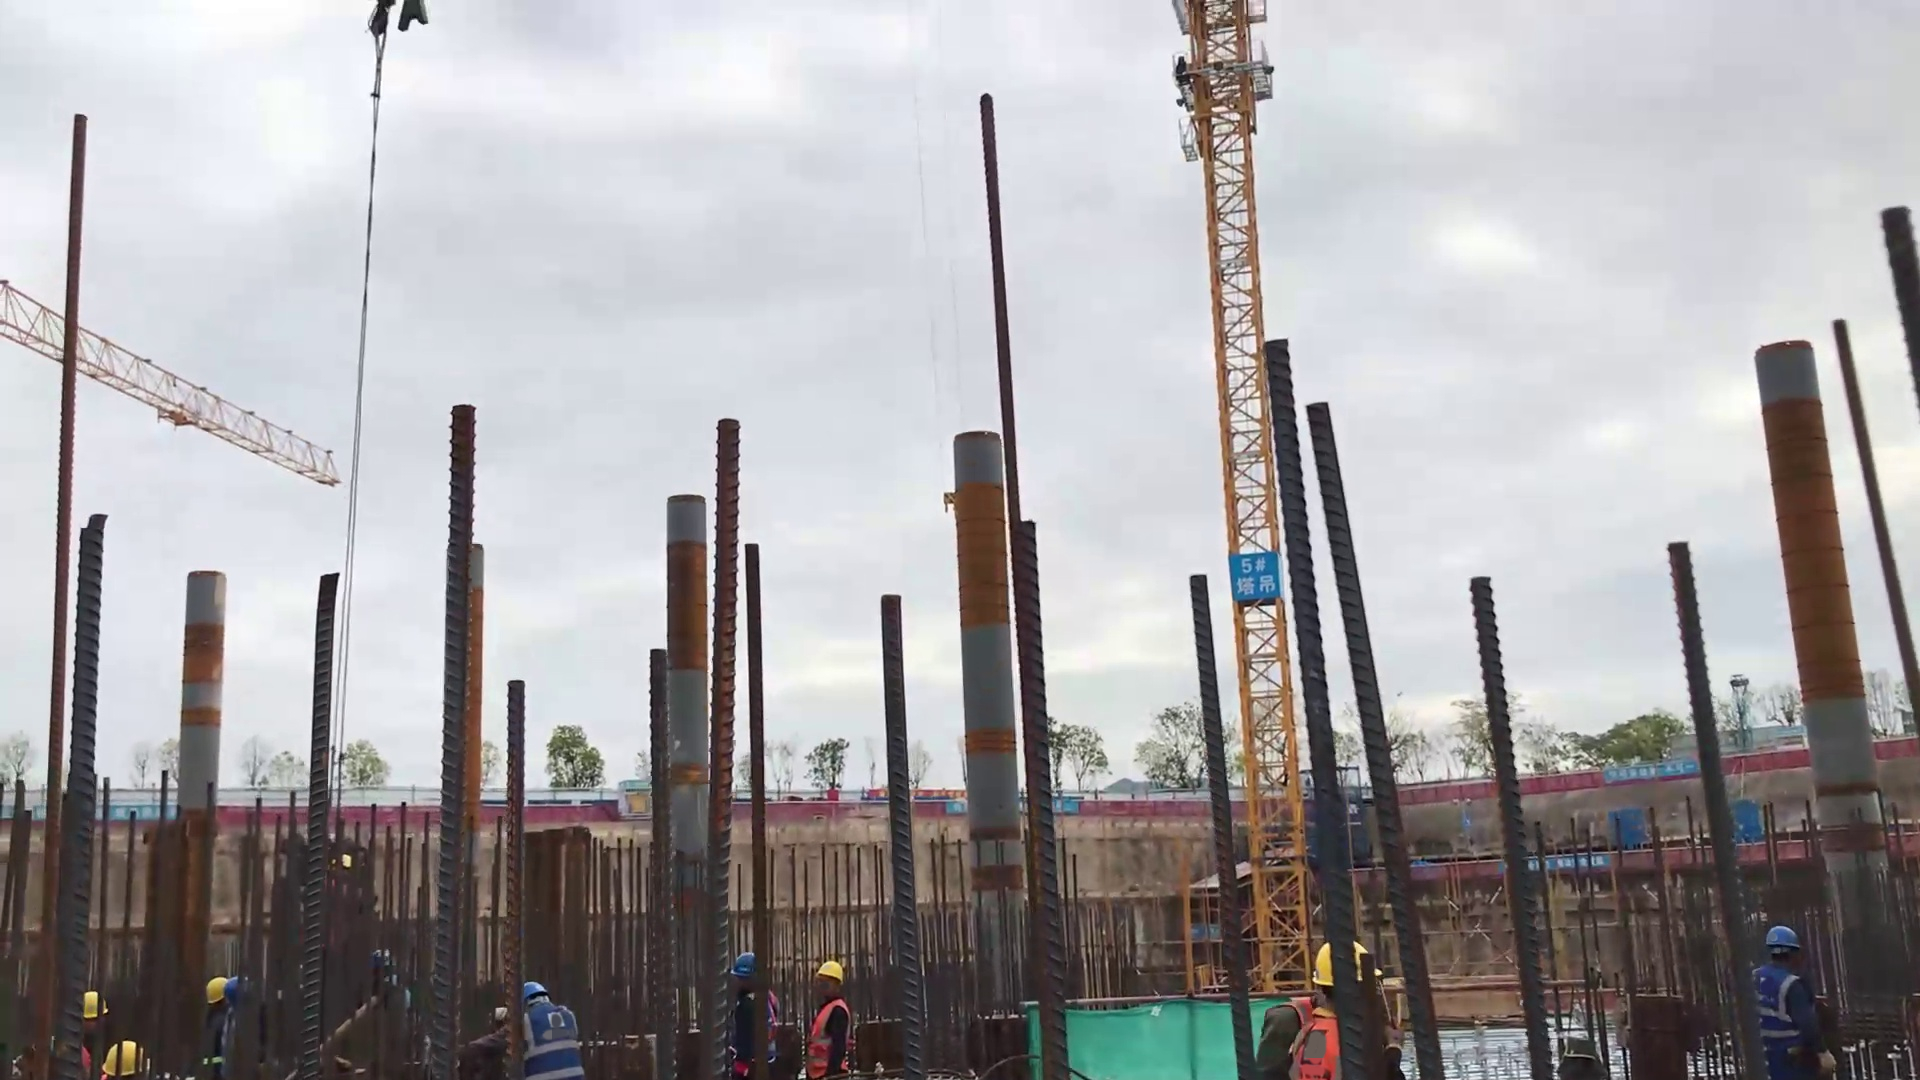helmet: (1304, 938, 1379, 991), (1765, 927, 1819, 969), (97, 1046, 152, 1079), (77, 992, 112, 1029), (727, 945, 759, 983), (202, 966, 227, 1008), (519, 972, 548, 999), (809, 961, 840, 987)
person: (1754, 915, 1831, 1072), (525, 965, 585, 1080), (809, 954, 856, 1080)
vest: (1754, 971, 1822, 1049), (1286, 998, 1342, 1068), (526, 1005, 586, 1070), (814, 1000, 851, 1068)
